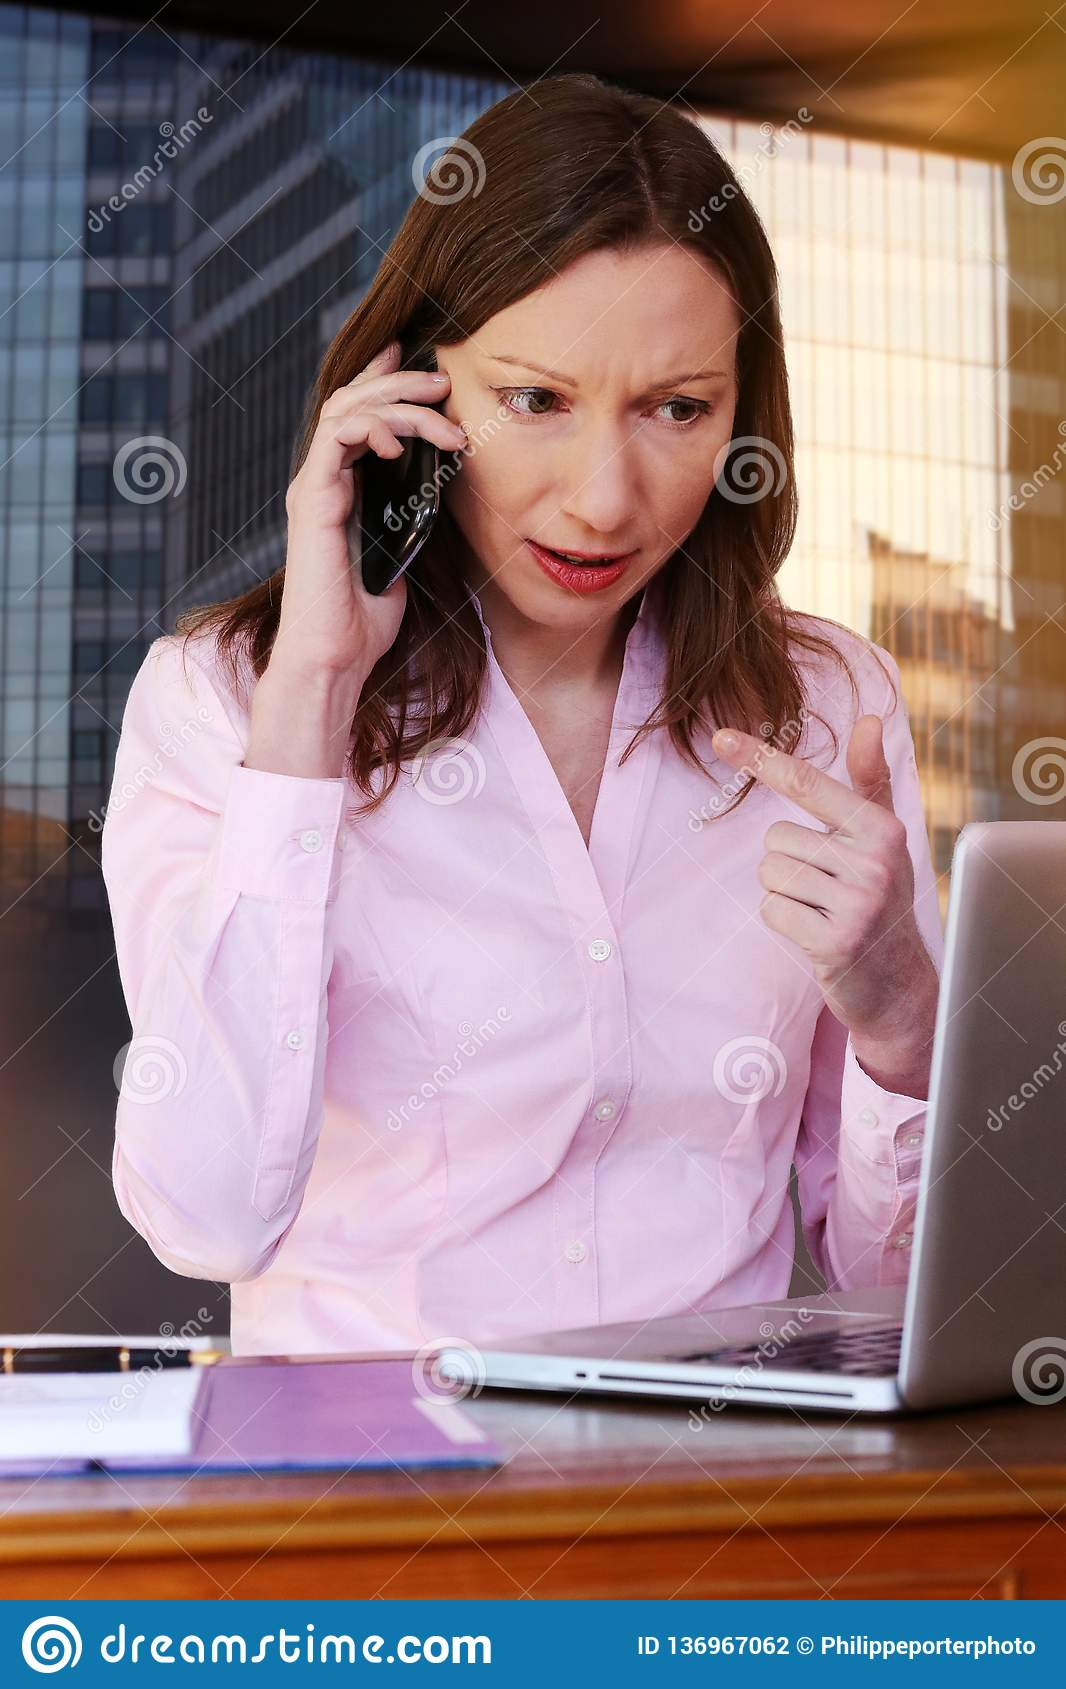phone: (364, 330, 443, 601)
talk: (266, 304, 731, 762)
